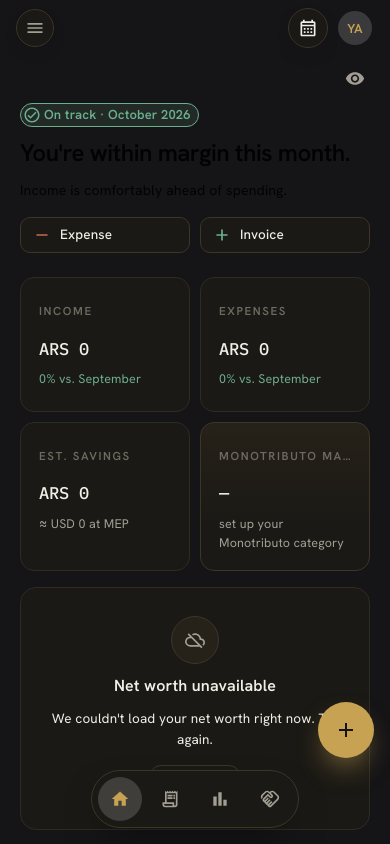
Scenario: the mobile menu button opens the nav drawer (ADR-172)
What coordinates should you click on to do the following:
click the button named "Open menu"
I would click on:
 (35, 28)
Its box is [16,9,54,47].
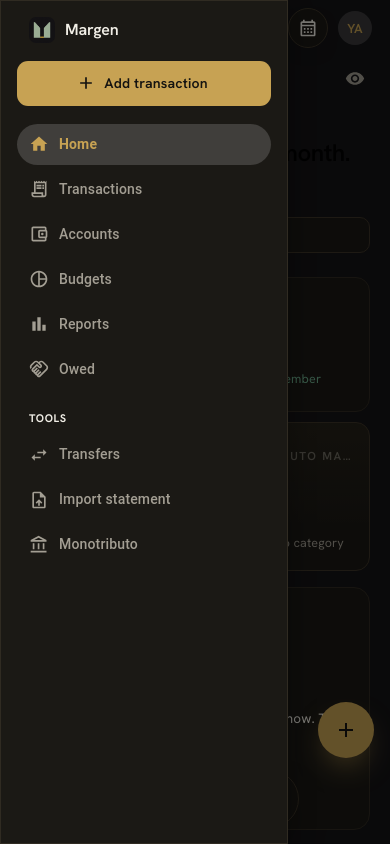
Expected: the navigation bar named "Menu" is shown, [17,124,271,565]
Expected: the button named "Open menu" is expanded, [16,9,54,47]
